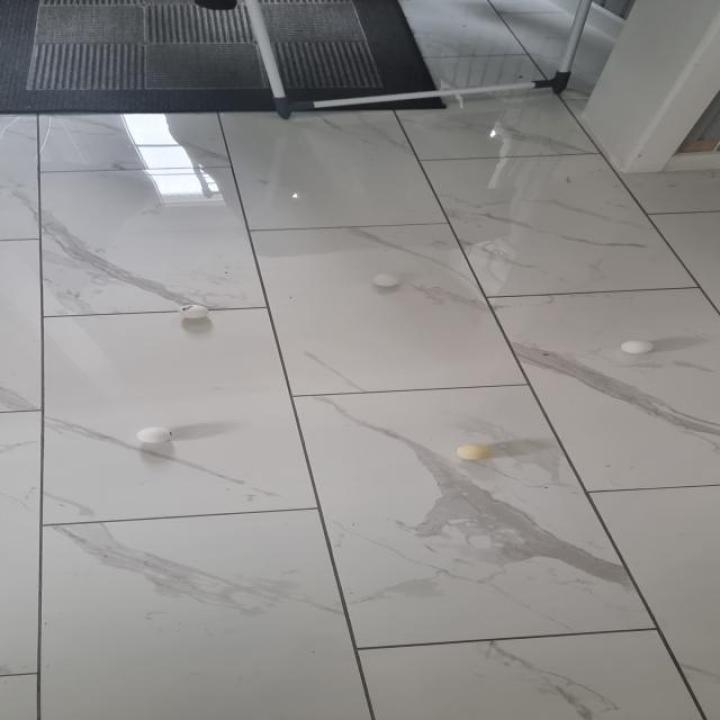white: (456, 444, 492, 460), (136, 428, 173, 442), (620, 340, 654, 354), (178, 305, 209, 318), (372, 273, 401, 286)
